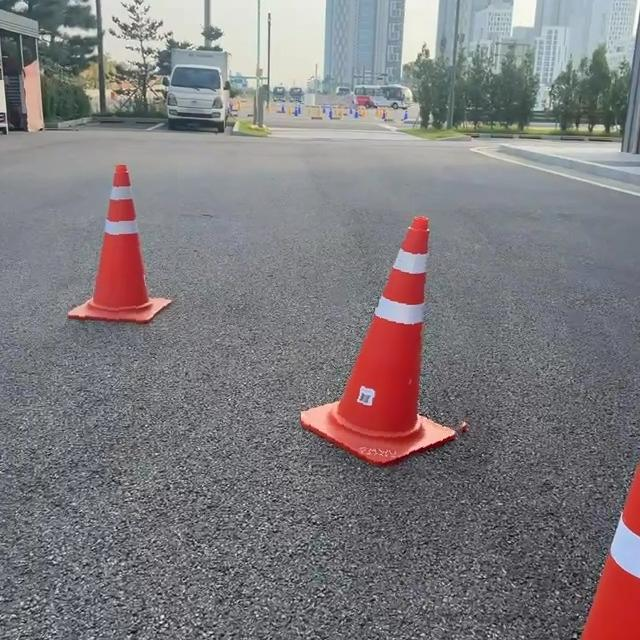fallen_object: (265, 175, 465, 465), (82, 113, 169, 373)
